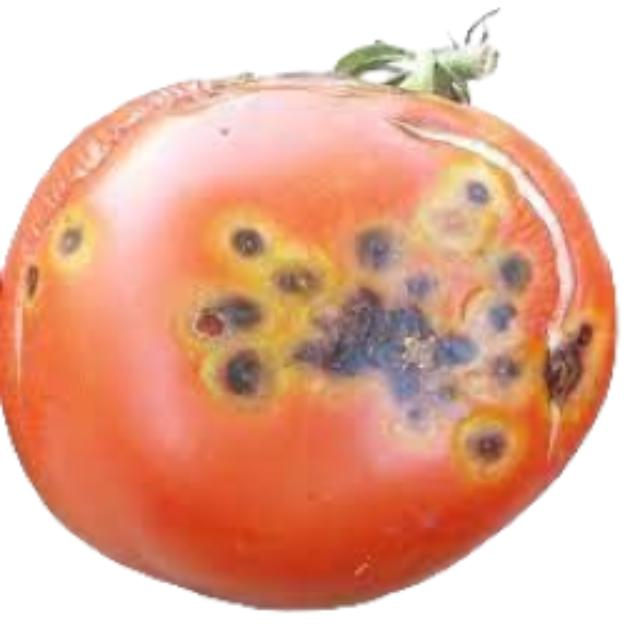defect: (0, 54, 624, 614)
